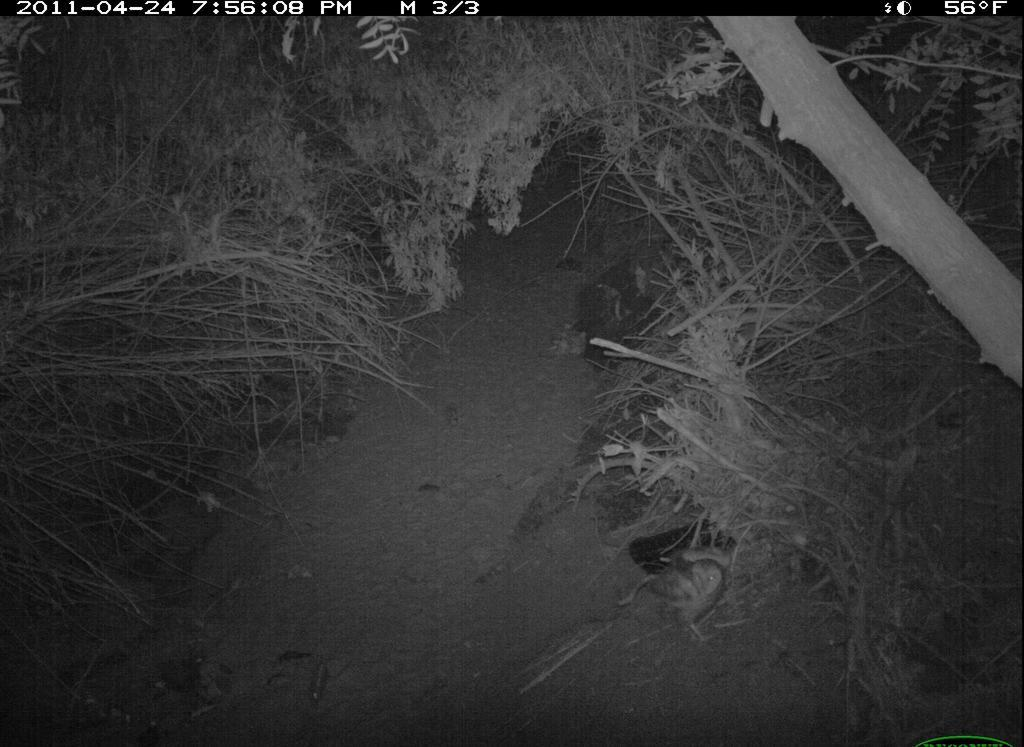bird: (647, 551, 735, 644)
